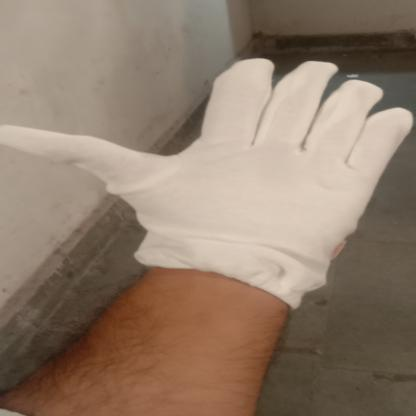gloved_hand: (0, 53, 416, 312)
